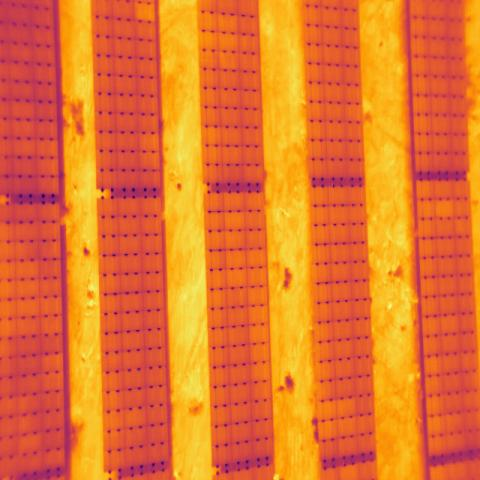fault: (133, 1, 154, 22)
